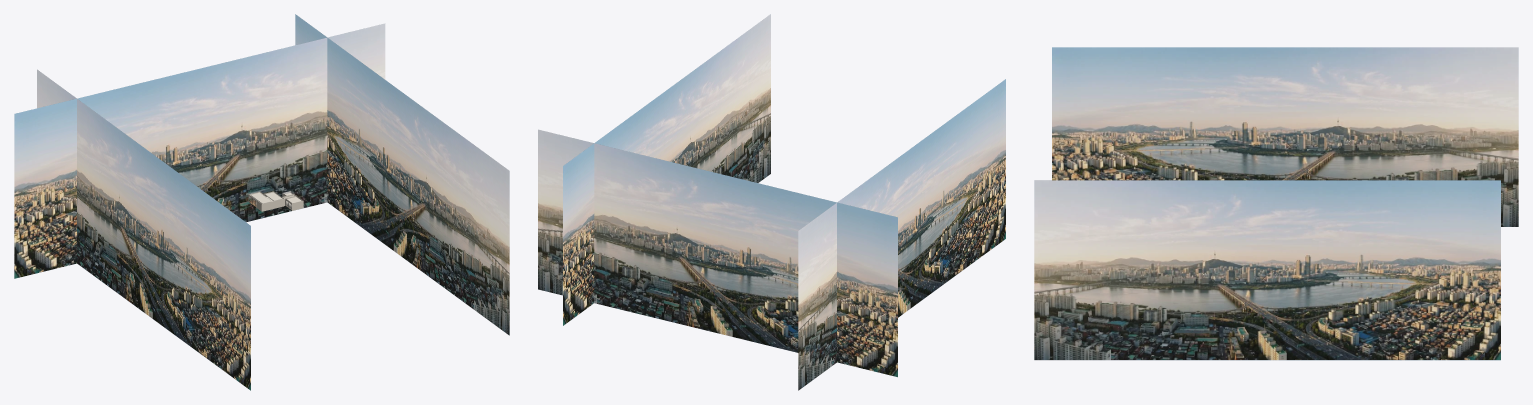
File: home_m.glb
3 views of the same model, side by side, from view 1: azimuth 30°, elevation 25°; view 2: azimuth 150°, elevation 25°; view 3: azimuth 270°, elevation 25° (orthographic). The views are drawn at different scales.
Visible parts, largest first — view 1: view, L_a; view 2: view; view 3: view.
Part boxes in pixels (x1,y1,x2,y2): view: [14, 14, 509, 390]; L_a: [248, 191, 284, 211]; view: [538, 14, 1005, 390]; view: [1034, 47, 1518, 360].
Size of the model in its own units: 160 by 67.99 by 166.
Materials: 43 (17 with a texture image).
